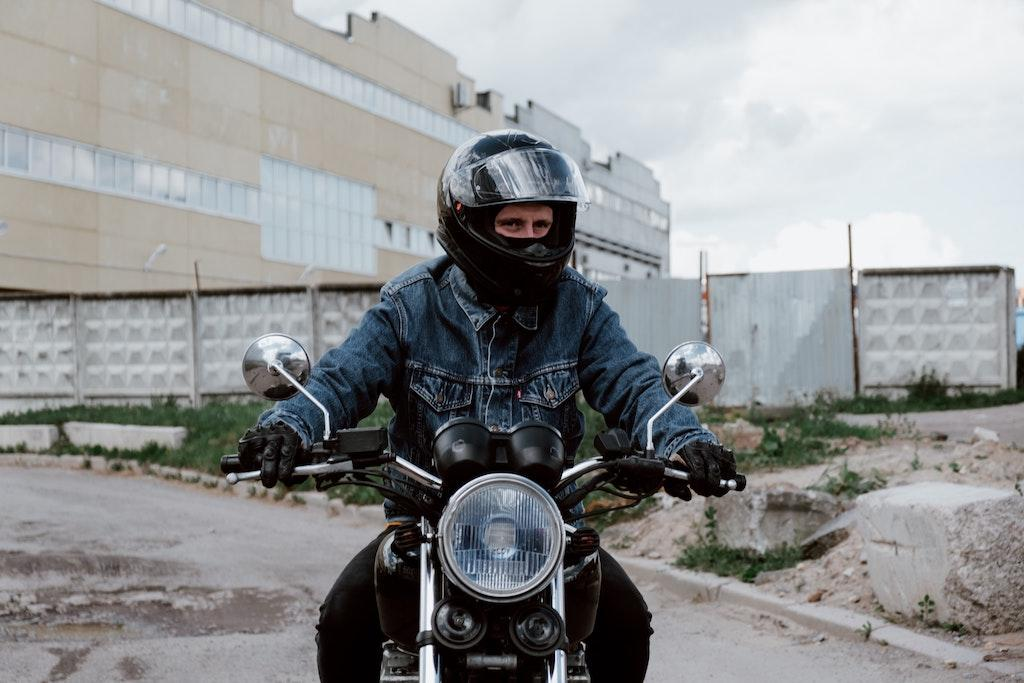helmet: (435, 128, 592, 308)
